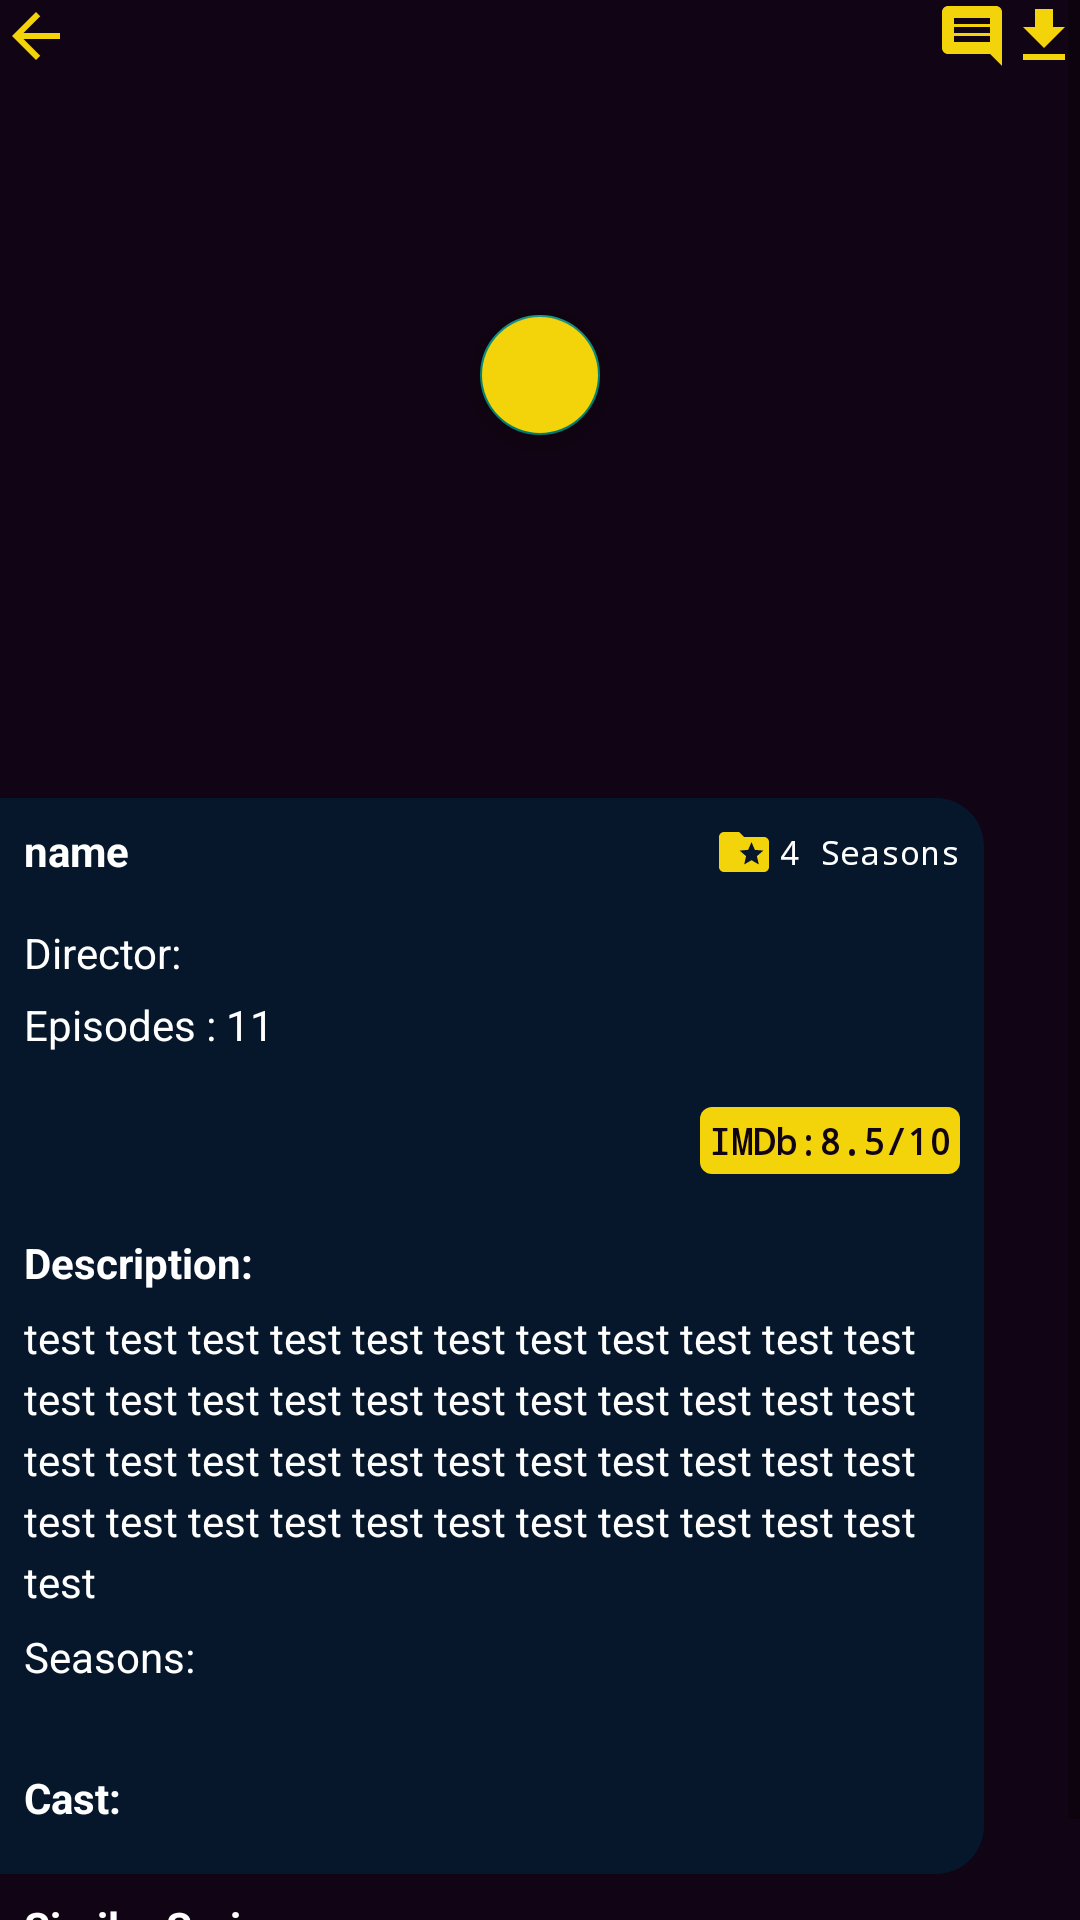

Named icons in this screenshot (1080w x 1920h) and their bounding boxes, (x1, y1, x2, y2):
arrow back: (12, 12, 60, 60)
comment: (942, 6, 1002, 66)
folder special: (719, 832, 769, 872)
get app: (1023, 9, 1065, 60)
